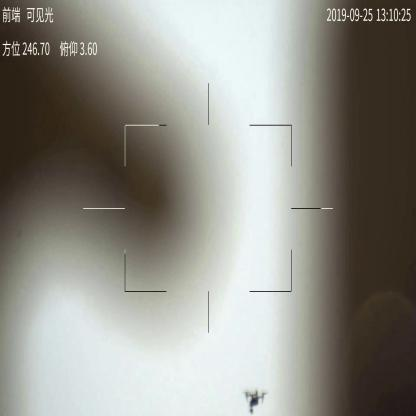uav: (240, 387, 270, 414)
